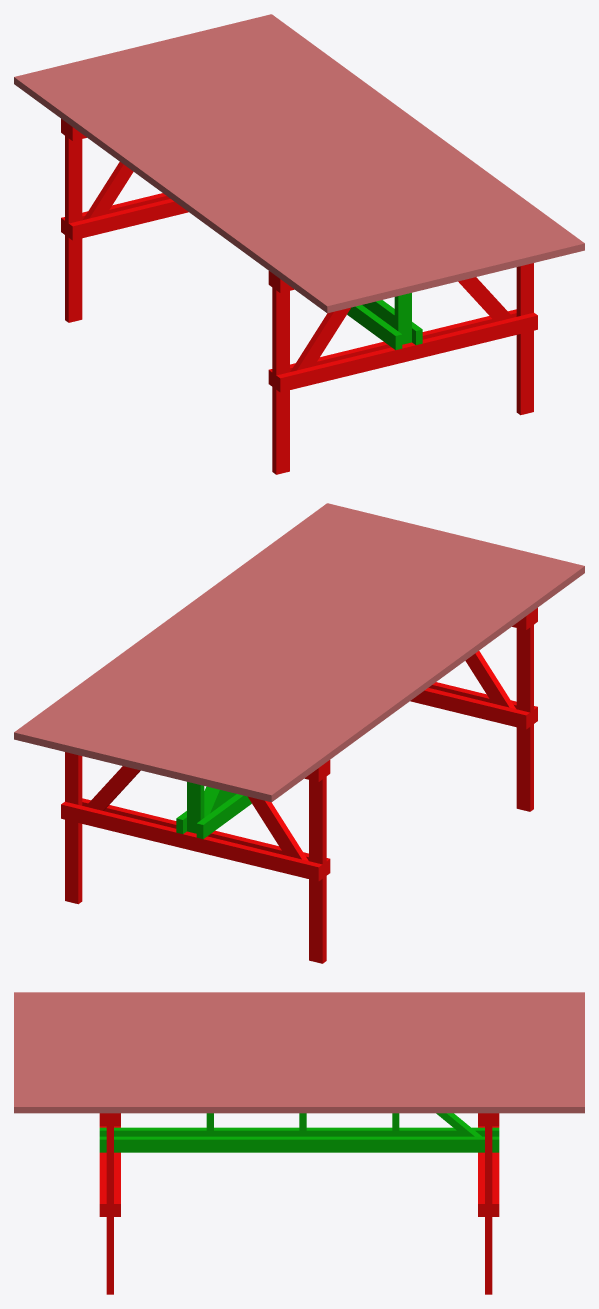
The model's file is result.glb.
3 views of the same model, one above another, from view 1: azimuth 30°, elevation 25°; view 2: azimuth 150°, elevation 25°; view 3: azimuth 270°, elevation 25° (orthographic). The views are drawn at different scales.
Parts seen in each view (by area): view 1: 5cfa11a8-4801-4e69-bb9e-c25471996b3b__Box, 371f28b3-77f6-4b42-9ec9-593395ccc254__sideH, 981f38d1-b7b1-43ca-b5d2-5e2c1748f078__undefined, 2b337bf0-8a40-4012-a197-ec5c2908f6dc__undefined, 52e6202e-de06-422d-8f6b-bb27426a8f48__undefined, b9605741-5186-4d0c-81db-35fa8a0db68e__undefined, c61e03f0-5352-476e-a17e-fda9dbe55d5a__undefined, e6acc484-483a-4a84-aff0-dce279428d5a__undefined, 812f81fe-4e3d-44bf-807d-568fe5aa3392__undefined, 1e39222a-eaf9-4b2b-bebf-71b20bc8d872__undefined, f251e33a-299d-4ae4-af19-5ae5978154bf__undefined, 8beb3d60-4b49-41c8-9bb2-8ff1c013c492__undefined (+19 smaller); view 2: 5cfa11a8-4801-4e69-bb9e-c25471996b3b__Box, 528b8826-b658-43a8-8678-ddebf4a12413__undefined, 981f38d1-b7b1-43ca-b5d2-5e2c1748f078__undefined, 2b337bf0-8a40-4012-a197-ec5c2908f6dc__undefined, 52e6202e-de06-422d-8f6b-bb27426a8f48__undefined, b9605741-5186-4d0c-81db-35fa8a0db68e__undefined, c61e03f0-5352-476e-a17e-fda9dbe55d5a__undefined, e6acc484-483a-4a84-aff0-dce279428d5a__undefined, 812f81fe-4e3d-44bf-807d-568fe5aa3392__undefined, 1e39222a-eaf9-4b2b-bebf-71b20bc8d872__undefined, f251e33a-299d-4ae4-af19-5ae5978154bf__undefined, 8beb3d60-4b49-41c8-9bb2-8ff1c013c492__undefined (+18 smaller); view 3: 1d948c61-bfd1-4c0b-b545-3f58b8ca5374__undefined, c84816b4-cc8b-4e4b-ace9-94c36615956f__strutH, 5cfa11a8-4801-4e69-bb9e-c25471996b3b__Box, 2b337bf0-8a40-4012-a197-ec5c2908f6dc__undefined, 8beb3d60-4b49-41c8-9bb2-8ff1c013c492__undefined, 8dca6393-a2bc-45af-8e06-2b242a47b033__undefined, 812f81fe-4e3d-44bf-807d-568fe5aa3392__undefined, b3adc838-543c-44dc-92e7-34c5ac82acf2__undefined, b9605741-5186-4d0c-81db-35fa8a0db68e__undefined, f251e33a-299d-4ae4-af19-5ae5978154bf__undefined, 52e6202e-de06-422d-8f6b-bb27426a8f48__undefined, 922328c8-8f8e-4fa8-a29e-c325f3b7a0df__undefined (+16 smaller).
Boxes of the visible parts, x1,y1,x2,y2 form: 5cfa11a8-4801-4e69-bb9e-c25471996b3b__Box: [14, 73, 340, 313]; 371f28b3-77f6-4b42-9ec9-593395ccc254__sideH: [276, 312, 537, 392]; 981f38d1-b7b1-43ca-b5d2-5e2c1748f078__undefined: [191, 30, 517, 269]; 2b337bf0-8a40-4012-a197-ec5c2908f6dc__undefined: [28, 70, 354, 309]; 52e6202e-de06-422d-8f6b-bb27426a8f48__undefined: [123, 47, 449, 286]; b9605741-5186-4d0c-81db-35fa8a0db68e__undefined: [95, 54, 422, 293]; c61e03f0-5352-476e-a17e-fda9dbe55d5a__undefined: [218, 24, 544, 263]; e6acc484-483a-4a84-aff0-dce279428d5a__undefined: [150, 40, 476, 280]; 812f81fe-4e3d-44bf-807d-568fe5aa3392__undefined: [68, 60, 394, 299]; 1e39222a-eaf9-4b2b-bebf-71b20bc8d872__undefined: [163, 37, 489, 276]; f251e33a-299d-4ae4-af19-5ae5978154bf__undefined: [109, 50, 435, 289]; 8beb3d60-4b49-41c8-9bb2-8ff1c013c492__undefined: [41, 67, 367, 306]; 5cfa11a8-4801-4e69-bb9e-c25471996b3b__Box: [258, 562, 584, 802]; 528b8826-b658-43a8-8678-ddebf4a12413__undefined: [61, 801, 322, 881]; 981f38d1-b7b1-43ca-b5d2-5e2c1748f078__undefined: [81, 519, 407, 758]; 2b337bf0-8a40-4012-a197-ec5c2908f6dc__undefined: [244, 559, 570, 798]; 52e6202e-de06-422d-8f6b-bb27426a8f48__undefined: [149, 536, 475, 775]; b9605741-5186-4d0c-81db-35fa8a0db68e__undefined: [176, 543, 503, 782]; c61e03f0-5352-476e-a17e-fda9dbe55d5a__undefined: [54, 513, 380, 752]; e6acc484-483a-4a84-aff0-dce279428d5a__undefined: [122, 529, 448, 769]; 812f81fe-4e3d-44bf-807d-568fe5aa3392__undefined: [204, 549, 530, 788]; 1e39222a-eaf9-4b2b-bebf-71b20bc8d872__undefined: [109, 526, 435, 765]; f251e33a-299d-4ae4-af19-5ae5978154bf__undefined: [163, 539, 489, 778]; 8beb3d60-4b49-41c8-9bb2-8ff1c013c492__undefined: [231, 556, 557, 795]; 1d948c61-bfd1-4c0b-b545-3f58b8ca5374__undefined: [14, 1101, 584, 1113]; c84816b4-cc8b-4e4b-ace9-94c36615956f__strutH: [99, 1136, 499, 1152]; 5cfa11a8-4801-4e69-bb9e-c25471996b3b__Box: [14, 992, 584, 998]; 2b337bf0-8a40-4012-a197-ec5c2908f6dc__undefined: [14, 998, 584, 1004]; 8beb3d60-4b49-41c8-9bb2-8ff1c013c492__undefined: [14, 1004, 584, 1010]; 8dca6393-a2bc-45af-8e06-2b242a47b033__undefined: [14, 1010, 584, 1016]; 812f81fe-4e3d-44bf-807d-568fe5aa3392__undefined: [14, 1016, 584, 1022]; b3adc838-543c-44dc-92e7-34c5ac82acf2__undefined: [14, 1022, 584, 1028]; b9605741-5186-4d0c-81db-35fa8a0db68e__undefined: [14, 1028, 584, 1034]; f251e33a-299d-4ae4-af19-5ae5978154bf__undefined: [14, 1034, 584, 1040]; 52e6202e-de06-422d-8f6b-bb27426a8f48__undefined: [14, 1040, 584, 1046]; 922328c8-8f8e-4fa8-a29e-c325f3b7a0df__undefined: [14, 1046, 584, 1052].
Bounding box in the file's own units: 950 × 725 × 2000.
